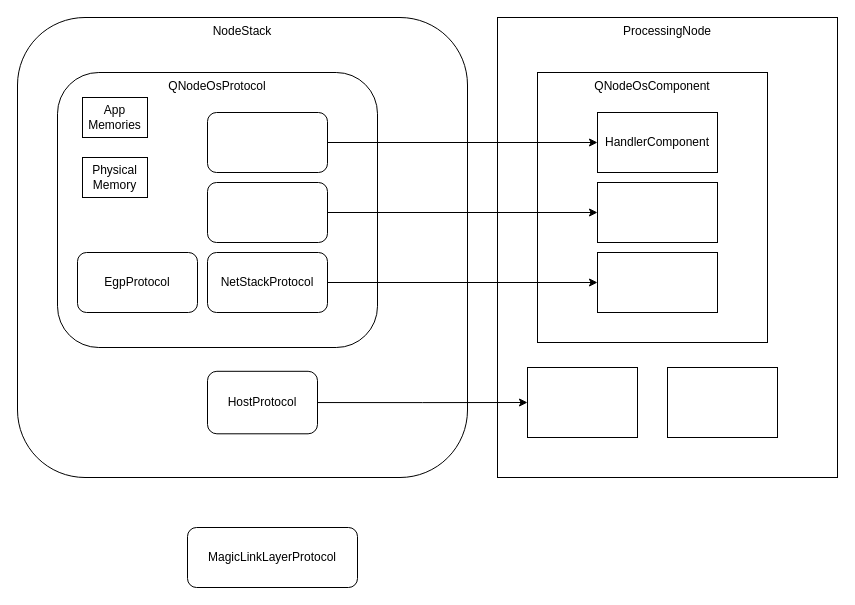
This 855x605 diagram has some shape labels left out. The centre of each missing label's shape, as x and y in pixels:
"HandlerProtocol" belongs at point 267,142.
"HostComponent" belongs at point 582,402.
"NetStackComponent" belongs at point 657,282.
"ProcessorComponent" belongs at point 657,212.
"ProcessorProtocol" belongs at point 267,212.
"QDevice" belongs at point 722,402.
